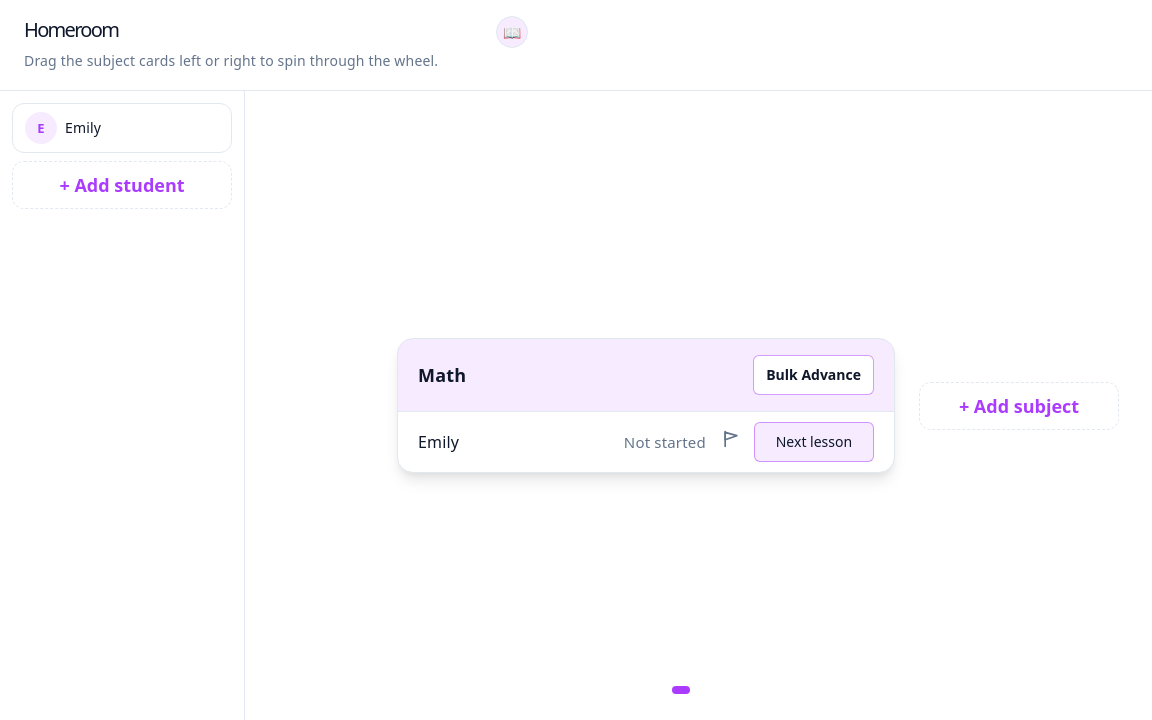
it: ClassBoard › shows an Undo control after Bulk Advance that reverts every advanced student to their pre-batch position
Click the button "Bulk Advance": (814, 375) 753,355 -> 874,395
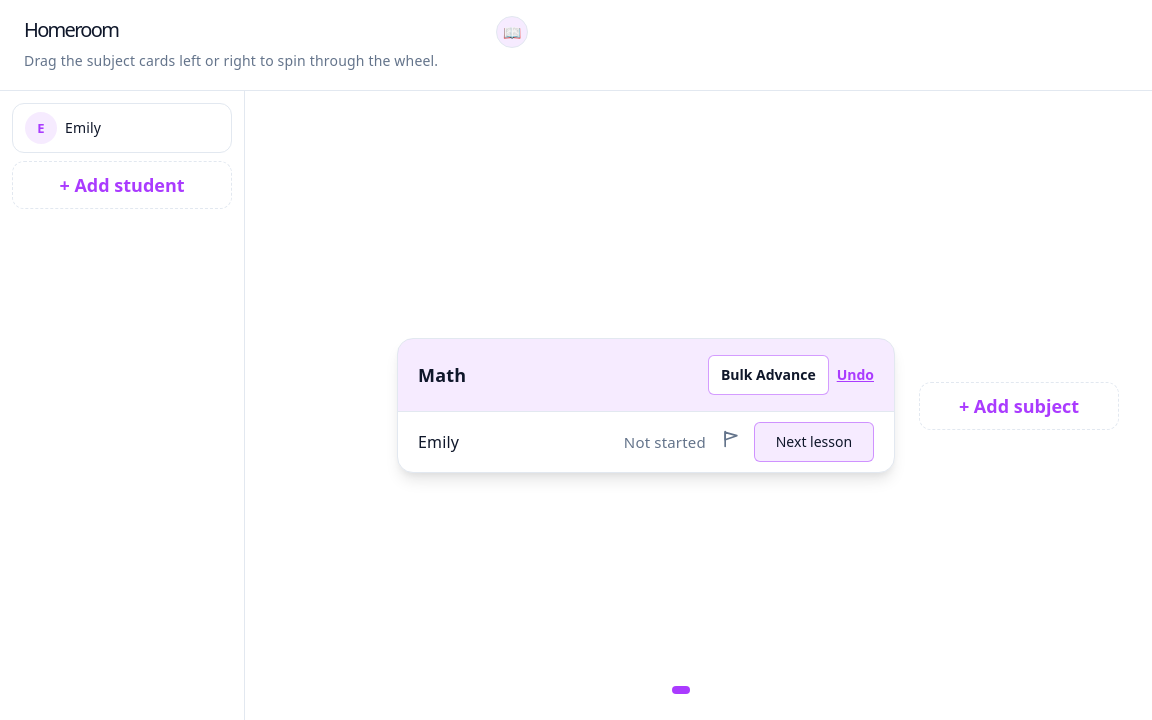
Expected: the button "Undo" is shown
Click the button "Undo": (855, 375) 837,362 -> 874,388
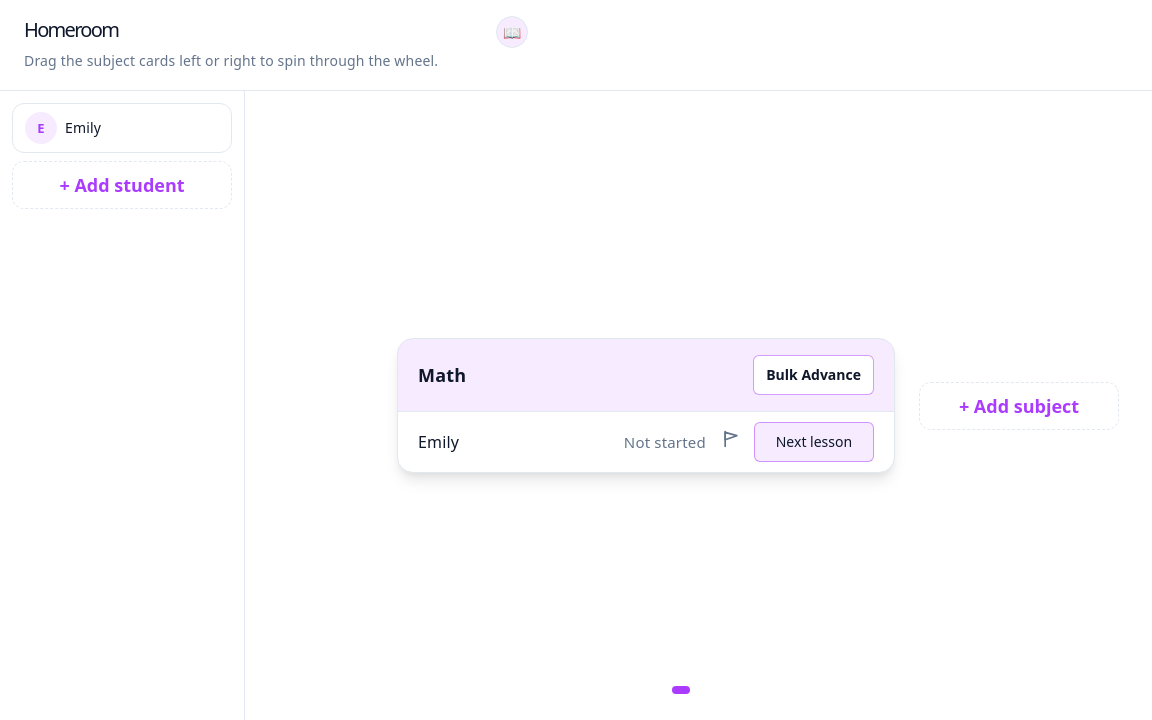
Expected: the button "Undo" is gone
